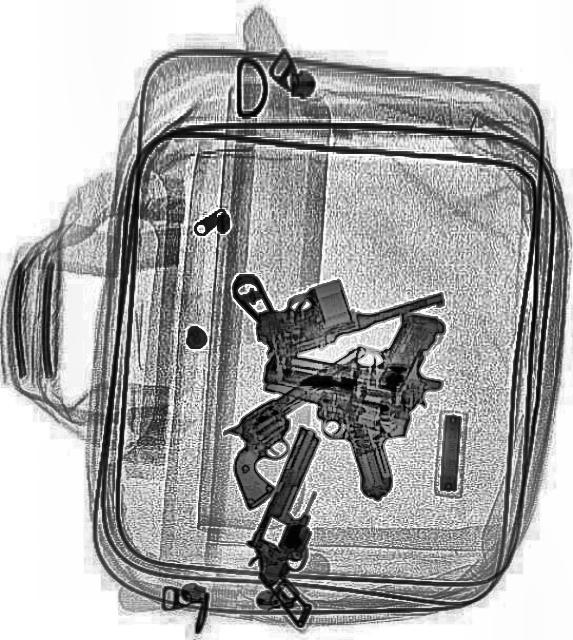Gun: (205, 340, 406, 512), (227, 216, 448, 370), (224, 420, 374, 628), (259, 279, 457, 425), (242, 374, 414, 502)
